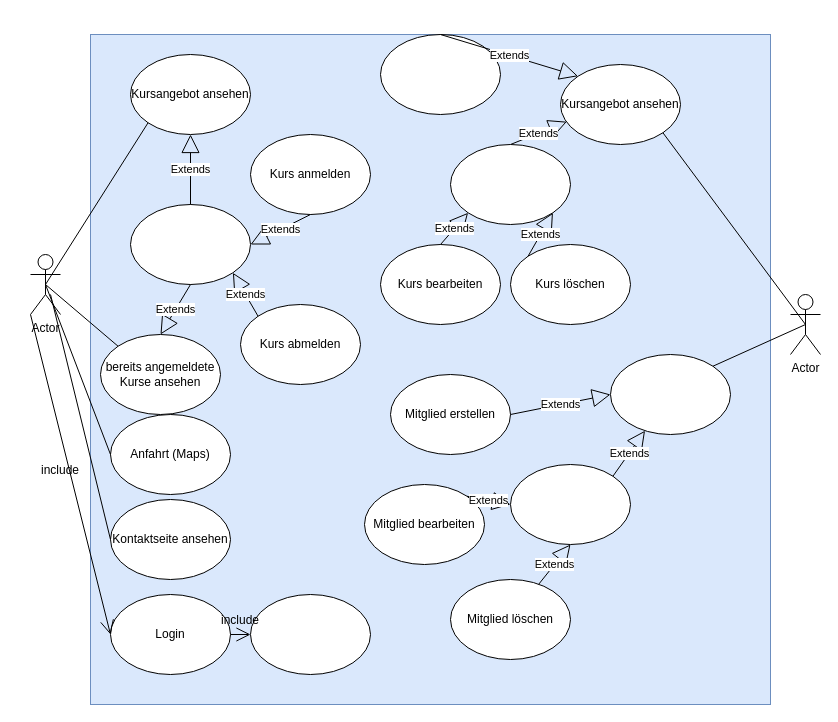
Image size: 838x722. Some labels were removed from this diagram. Each missing label, with the centre of its shape:
"Kurs erstellen" belongs at pixel 440 74.
"Kurseinzelansicht ansehen" belongs at pixel 510 184.
"Kursreinzelansicht ansehen" belongs at pixel 190 244.
"Mitgliedereinzelansicht ansehen" belongs at pixel 570 504.
"Mitgliederliste ansehen" belongs at pixel 670 394.
"Registrierung" belongs at pixel 310 634.
